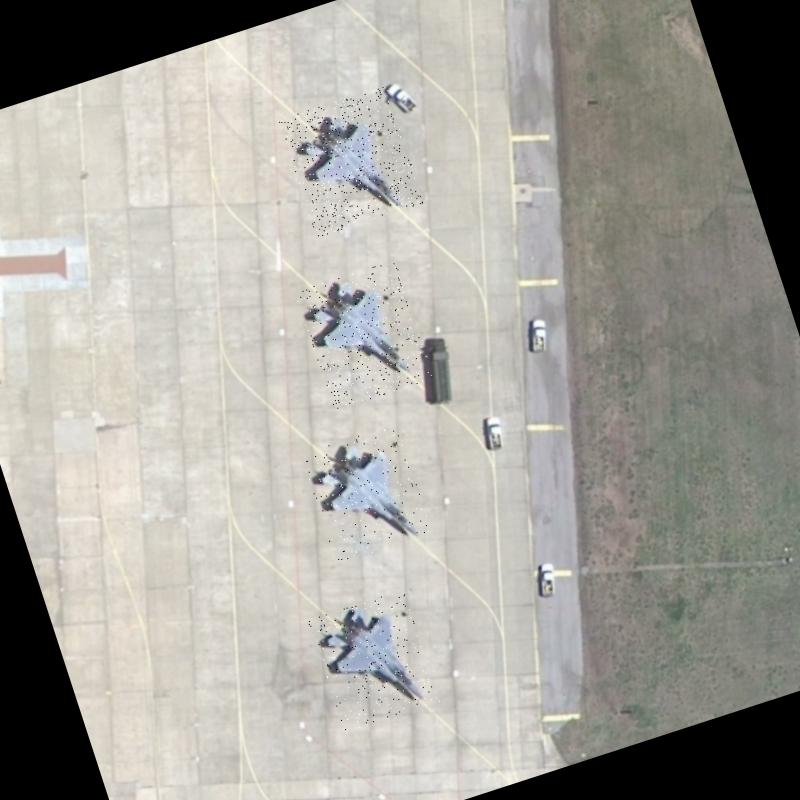A13: (278, 85, 424, 238), (295, 260, 434, 412), (307, 589, 440, 732), (301, 424, 433, 566)
